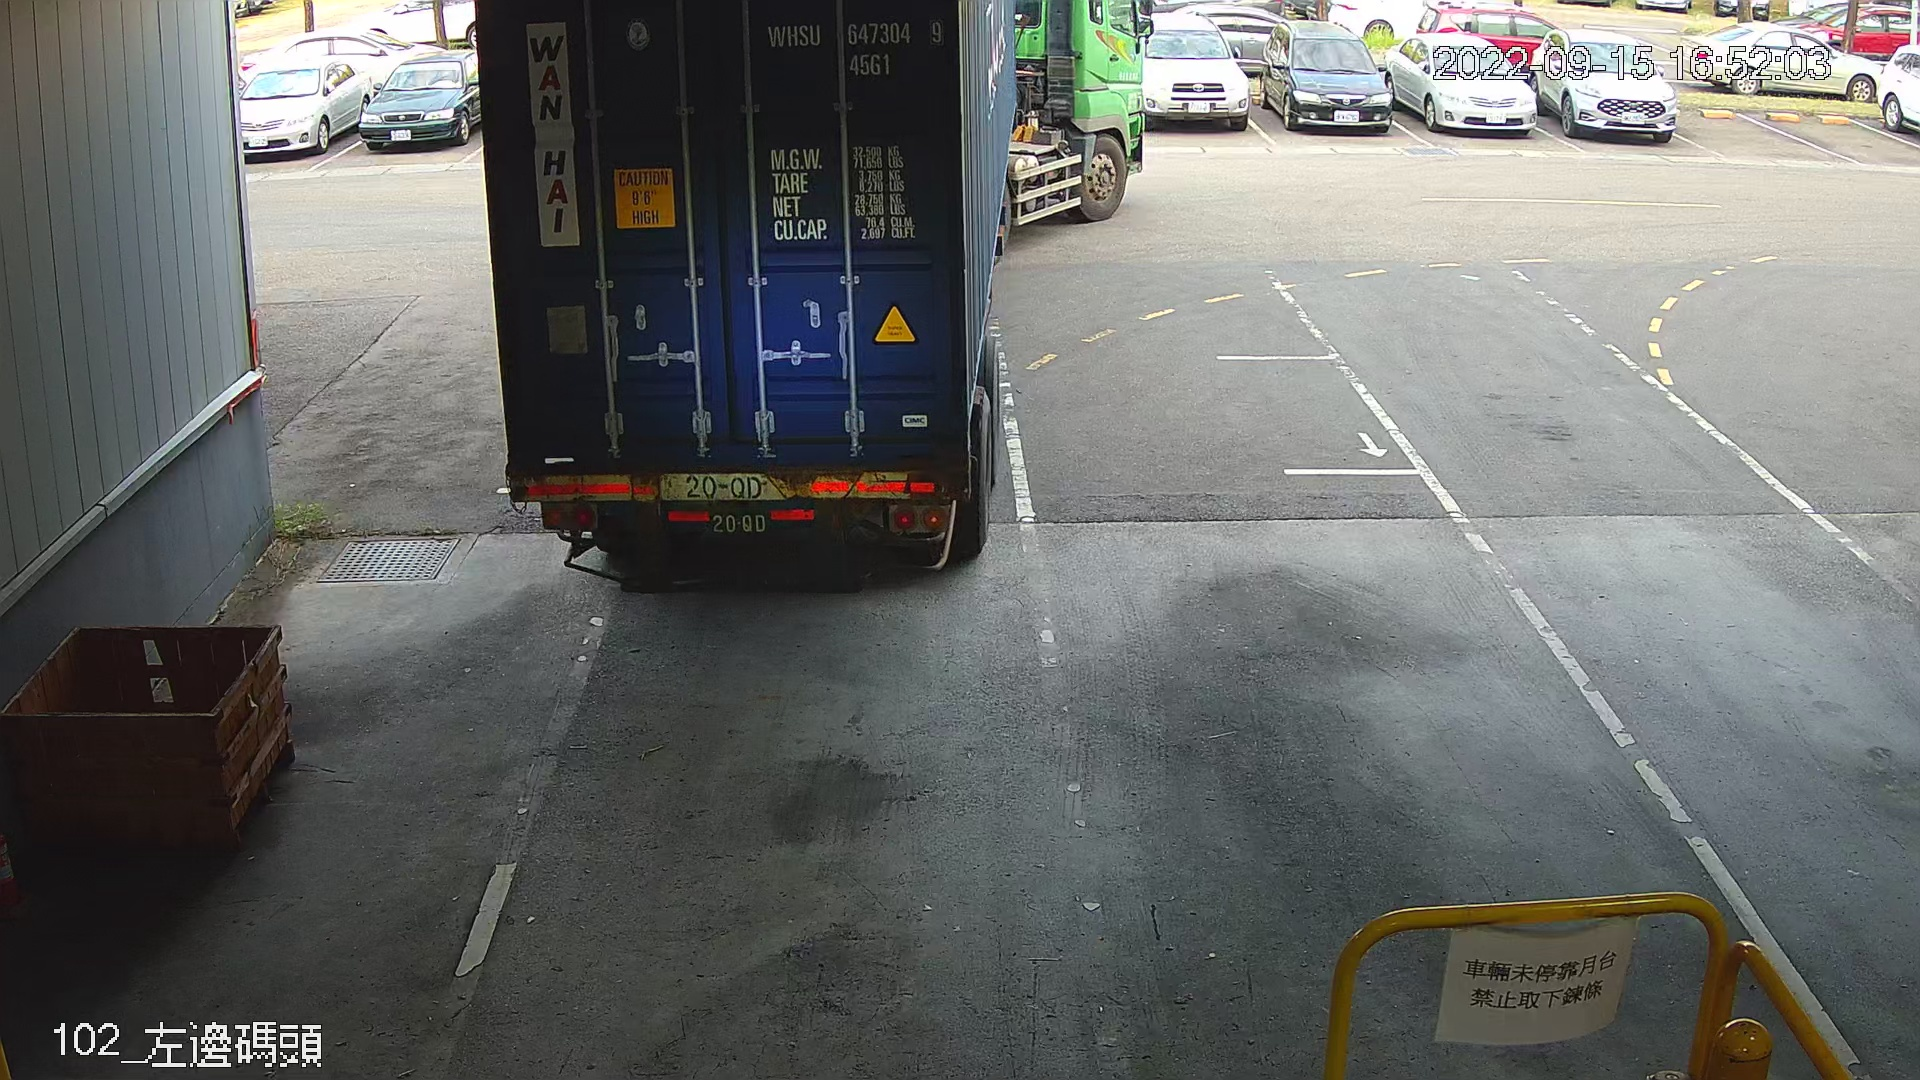container: (757, 11, 949, 82)
